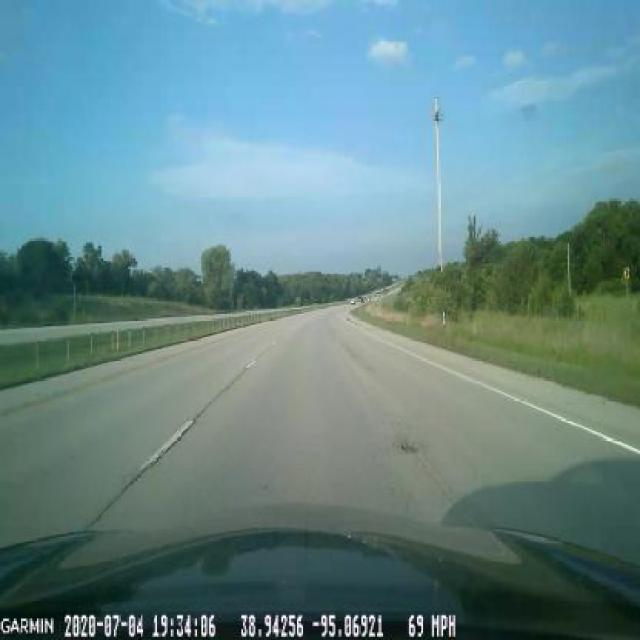Pothole: (395, 428, 428, 464)
